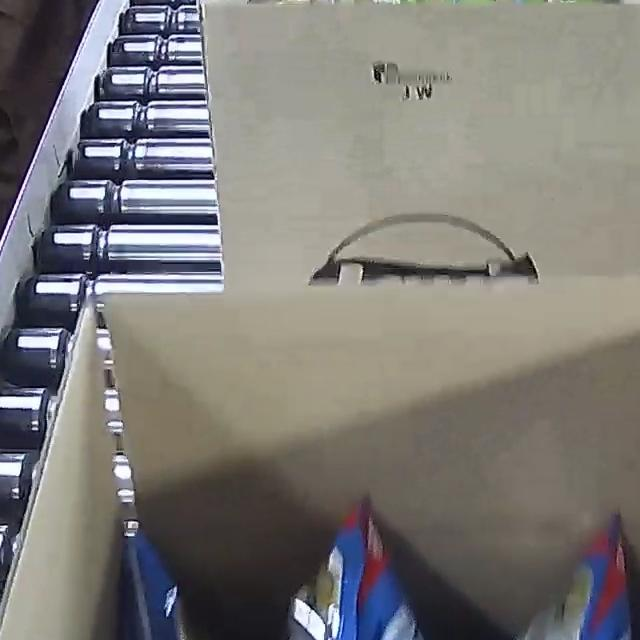paprika: (111, 448, 640, 640)
